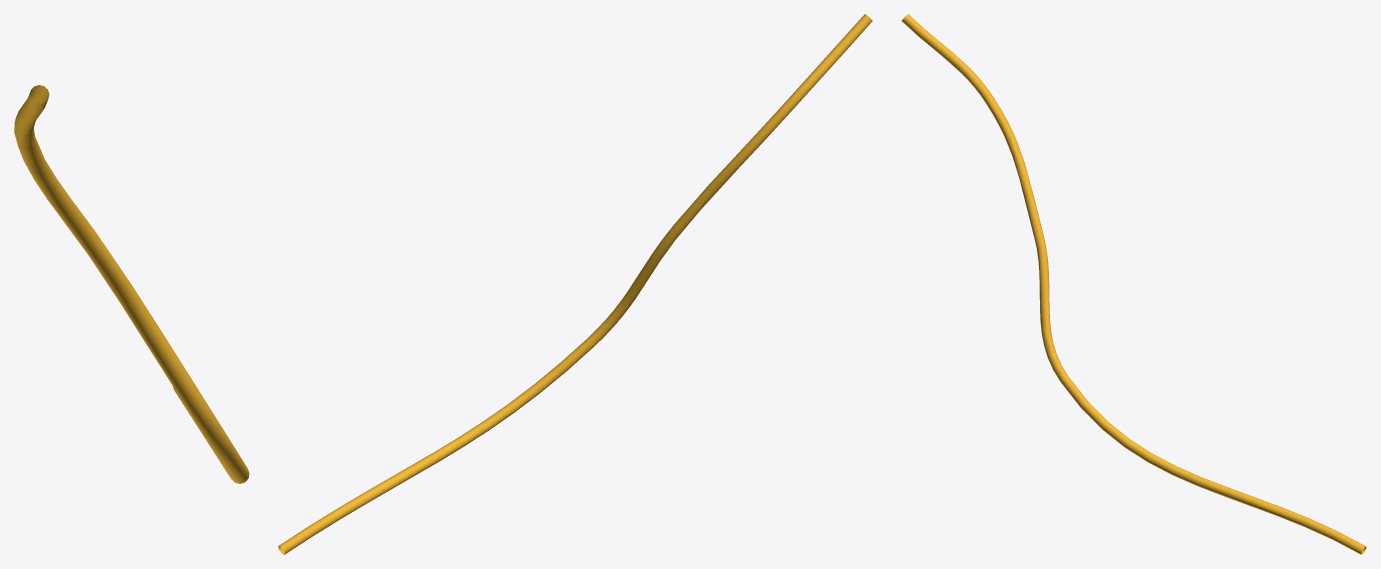
The model's file is nervoso-sural-communicating-branch-of-common-fibular-nerve-r.glb.
3 views of the same model, side by side, from view 1: azimuth 30°, elevation 25°; view 2: azimuth 150°, elevation 25°; view 3: azimuth 270°, elevation 25° (orthographic). The views are drawn at different scales.
Parts seen in each view (by area): view 1: Sural communicating branch of common fibular nerve.r; view 2: Sural communicating branch of common fibular nerve.r; view 3: Sural communicating branch of common fibular nerve.r.
Boxes of the visible parts, x1,y1,x2,y2 form: Sural communicating branch of common fibular nerve.r: [14, 85, 249, 483]; Sural communicating branch of common fibular nerve.r: [278, 14, 872, 554]; Sural communicating branch of common fibular nerve.r: [901, 14, 1366, 554].
Size of the model in its own units: 0.0363 by 0.0443 by 0.0473.
